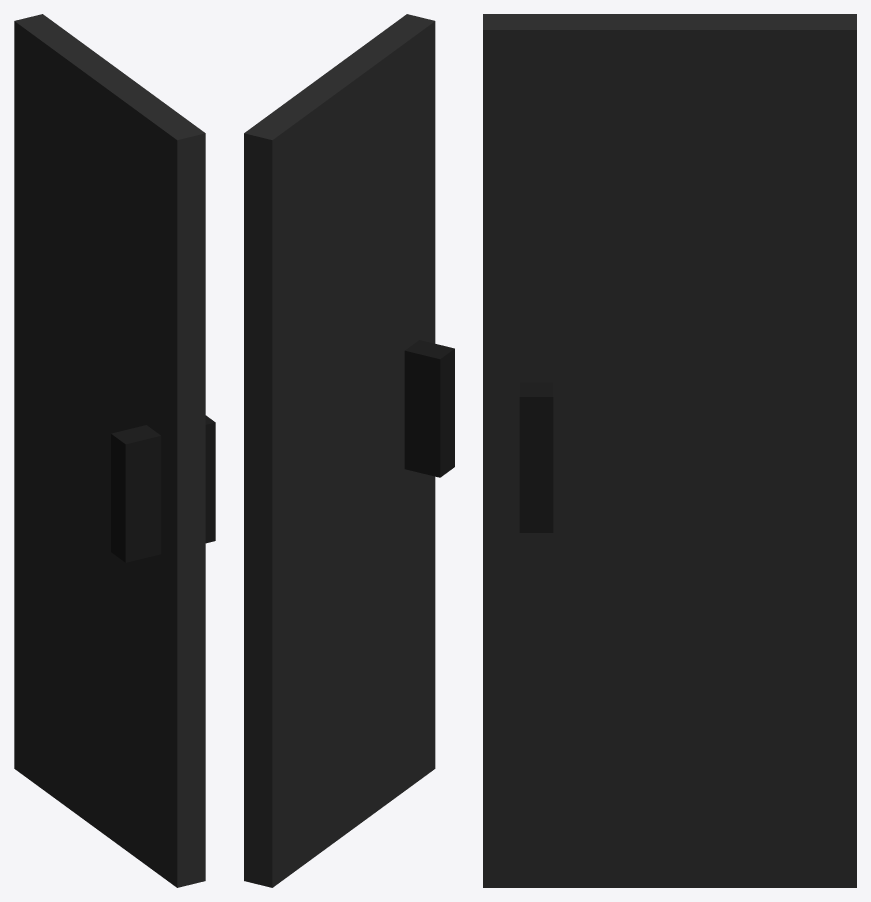
The model's file is puertaIzq.obj.
3 renders of one model, left to right at view 1: azimuth 30°, elevation 25°; view 2: azimuth 150°, elevation 25°; view 3: azimuth 270°, elevation 25°, orthographic. The views are drawn at different scales.
Visible parts, largest first — view 1: puertaIzq:polySurface50; view 2: puertaIzq:polySurface50; view 3: puertaIzq:polySurface50.
Boxes of the visible parts, bbox=[...] form: puertaIzq:polySurface50: bbox=[14, 14, 215, 887]; puertaIzq:polySurface50: bbox=[244, 14, 454, 887]; puertaIzq:polySurface50: bbox=[483, 14, 856, 887].
Size of the model in its own units: 1.59 by 12.62 by 4.98.
